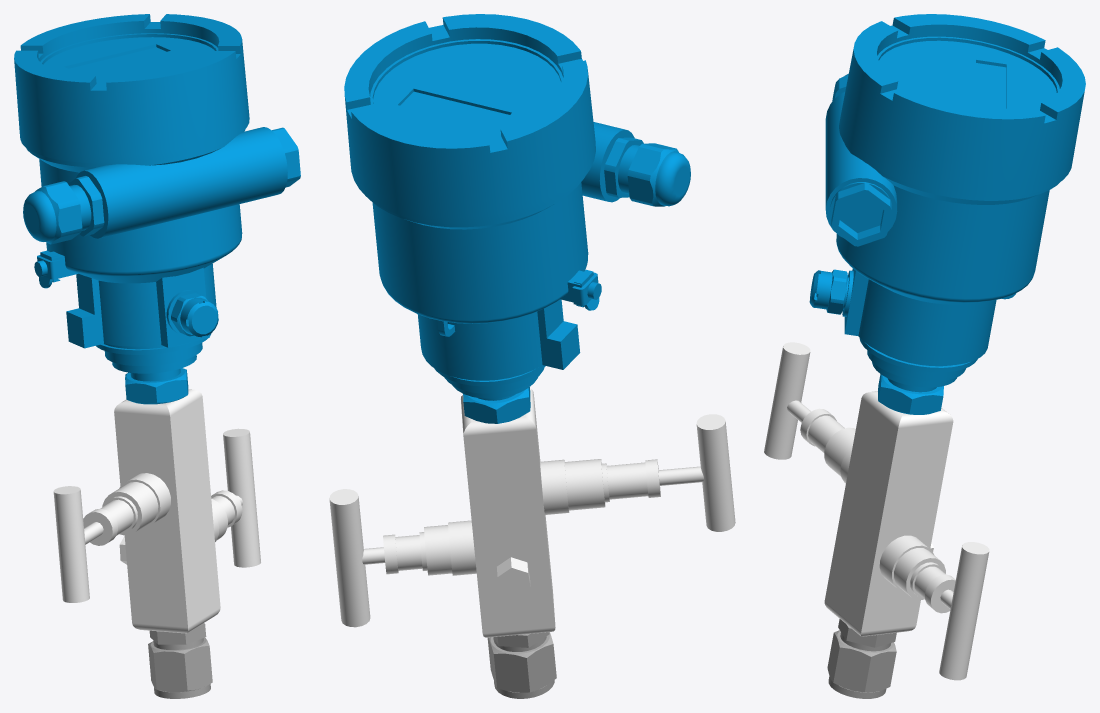
File: 压力变送器.obj
The picture shows the model from 3 angles, left to right: view 1: azimuth 30°, elevation 25°; view 2: azimuth 150°, elevation 25°; view 3: azimuth 270°, elevation 25°; orthographic projection. The views are drawn at different scales.
Parts seen in each view (by area): view 1: BRep_1, BRep_3, BRep_4, BRep_1_2, BRep_1_1, BRep_2; view 2: BRep_1, BRep_3, BRep_4, BRep_2, BRep_1_1, BRep_1_2; view 3: BRep_1, BRep_3, BRep_4, BRep_1_2, BRep_1_1, BRep_2.
Boxes of the visible parts, left/top/right/bottom form: BRep_1: left=14, top=14, right=300, bottom=404; BRep_3: left=114, top=389, right=220, bottom=633; BRep_4: left=53, top=473, right=170, bottom=602; BRep_1_2: left=148, top=623, right=212, bottom=698; BRep_1_1: left=223, top=428, right=260, bottom=567; BRep_2: left=211, top=490, right=242, bottom=541; BRep_1: left=344, top=14, right=690, bottom=423; BRep_3: left=460, top=388, right=555, bottom=637; BRep_4: left=540, top=414, right=735, bottom=531; BRep_2: left=362, top=520, right=476, bottom=575; BRep_1_1: left=329, top=489, right=370, bottom=627; BRep_1_2: left=487, top=632, right=556, bottom=698; BRep_1: left=809, top=14, right=1085, bottom=414; BRep_3: left=824, top=391, right=953, bottom=636; BRep_4: left=764, top=342, right=855, bottom=483; BRep_1_2: left=827, top=619, right=896, bottom=698; BRep_1_1: left=939, top=542, right=989, bottom=680; BRep_2: left=879, top=535, right=955, bottom=613.
Size of the model in its own units: 142 by 301 by 137.
